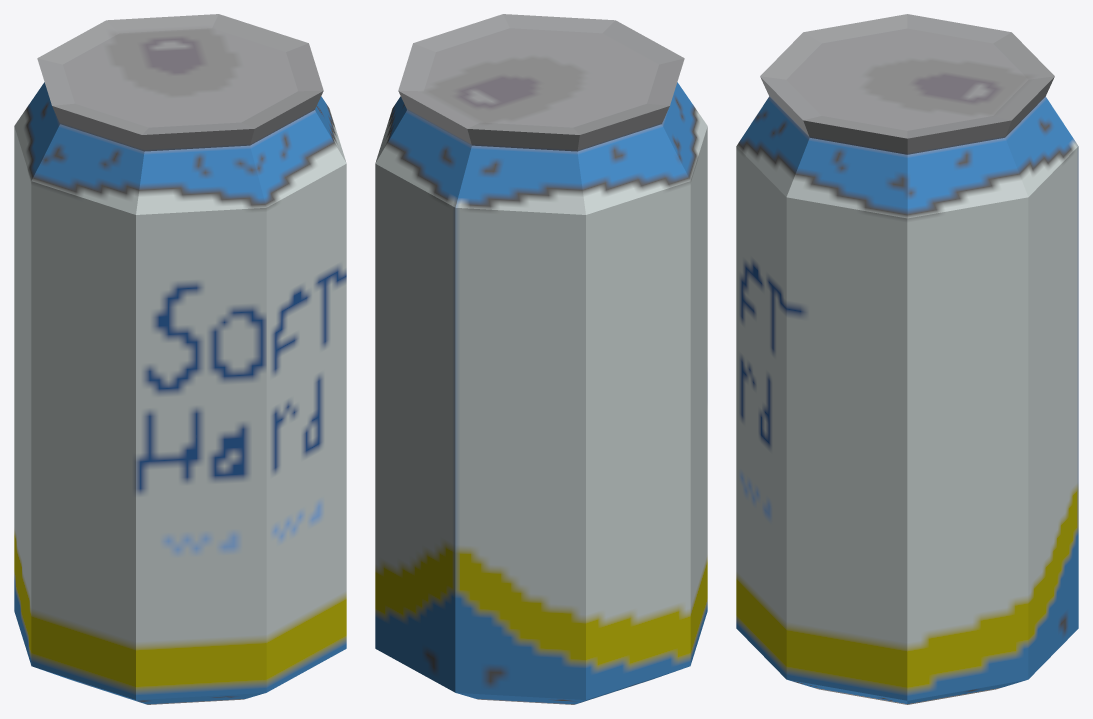
File: SoftHardDrink.fbx
The picture shows the model from 3 angles, left to right: view 1: azimuth 30°, elevation 25°; view 2: azimuth 150°, elevation 25°; view 3: azimuth 270°, elevation 25°; orthographic projection.
Parts seen in each view (by area): view 1: Can; view 2: Can; view 3: Can.
Boxes of the visible parts, x1,y1,x2,y2 form: Can: (14, 14, 346, 704); Can: (375, 14, 707, 704); Can: (736, 14, 1078, 704).
Size of the model in its own units: 15.95 by 29.6 by 15.95.
